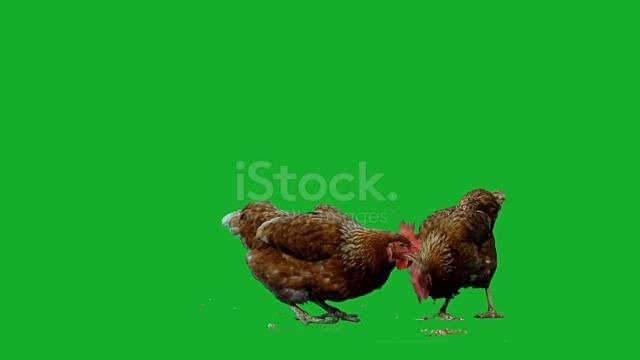Normal: (220, 192, 426, 328), (402, 189, 523, 327)
